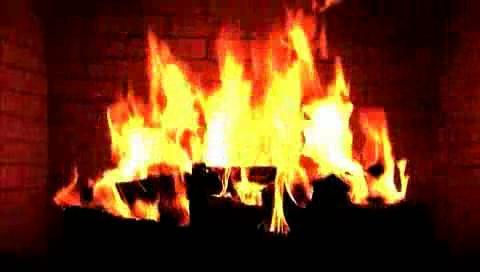fire: (74, 18, 414, 232)
